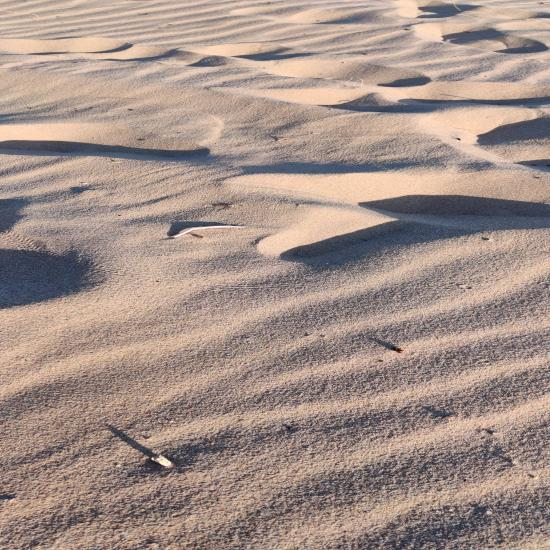Garbage bag: (223, 215, 550, 300)
Plastic film: (398, 255, 518, 291), (273, 291, 372, 327)
